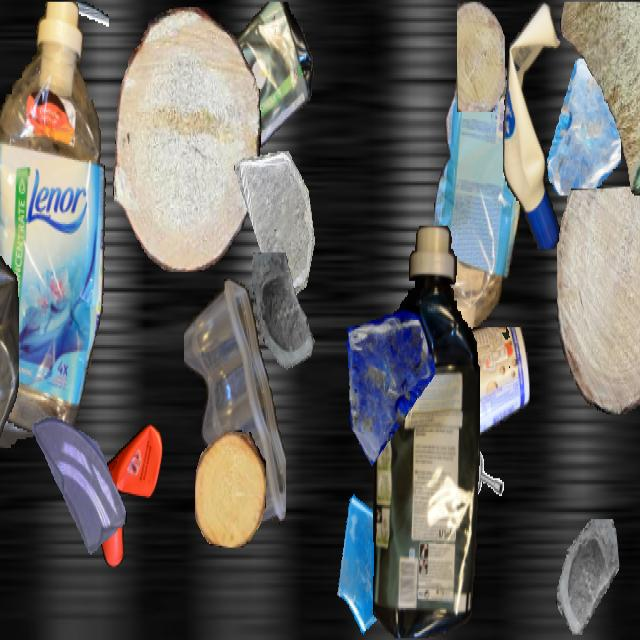glass: (32, 402, 126, 569), (341, 306, 435, 473), (333, 478, 423, 638), (234, 151, 318, 301), (247, 253, 325, 391), (544, 58, 620, 194), (555, 519, 619, 633)
metal: (46, 2, 108, 112), (462, 448, 510, 533)
plastic: (0, 2, 108, 446), (372, 226, 480, 638), (159, 2, 315, 183), (0, 164, 95, 448), (434, 62, 520, 372), (184, 279, 286, 532), (503, 2, 567, 247), (430, 327, 530, 452), (89, 425, 163, 567), (0, 117, 18, 491)
wood: (112, 7, 260, 270), (557, 187, 640, 414), (560, 2, 640, 194), (195, 430, 265, 548), (457, 2, 505, 112)
